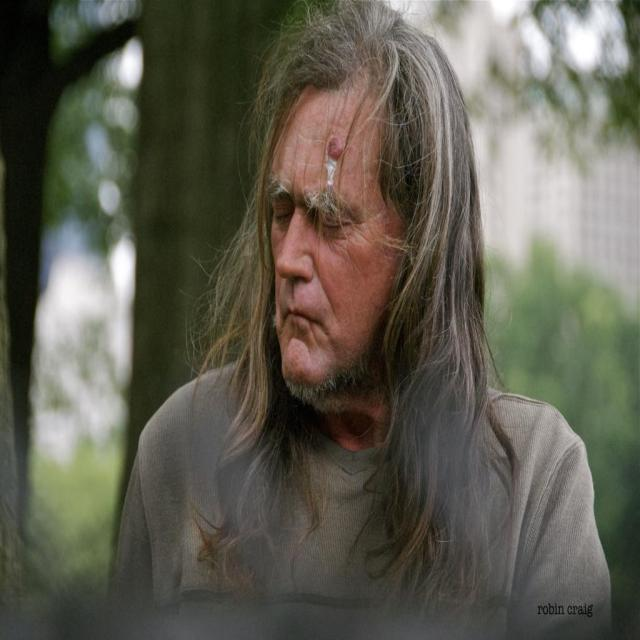Face: (265, 80, 412, 405)
